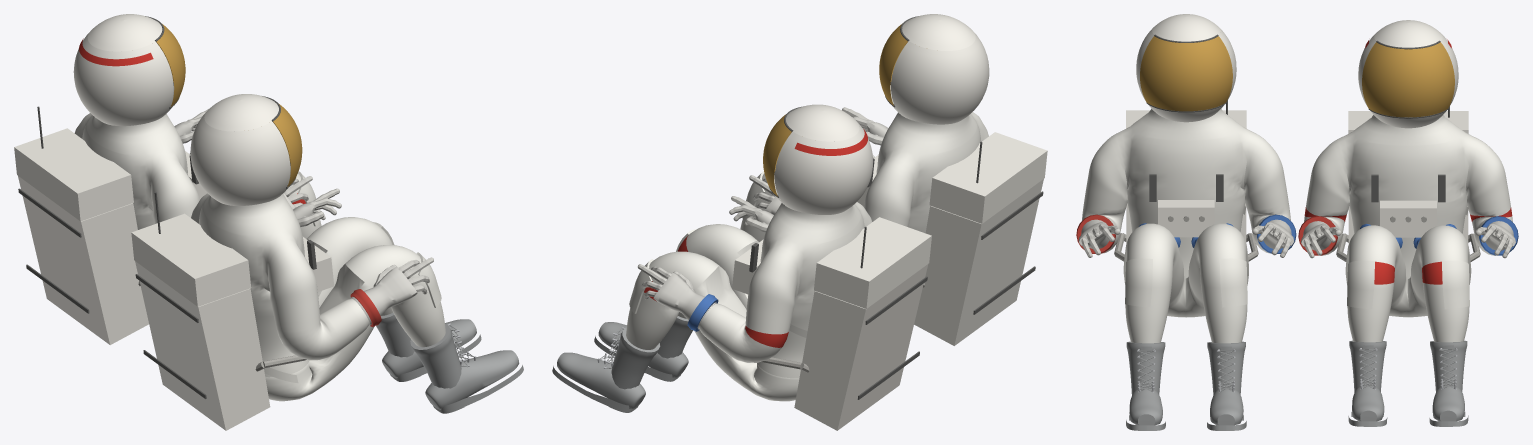
The model's file is riders.lod1.glb.
3 views of the same model, side by side, from view 1: azimuth 30°, elevation 25°; view 2: azimuth 150°, elevation 25°; view 3: azimuth 270°, elevation 25° (orthographic). The views are drawn at different scales.
Parts seen in each view (by area): view 1: Duke_Helmet_OuterThermalCover, Young_Helmet_OuterThermalCover, Duke_Arms_Sleeves, Young_Legs_Stowage, Duke_Boots_Laces, Duke_Gloves_PressureGloves, Duke_Helmet_VisorRim, Duke_Helmet_GoldSunVisor, Young_Helmet_GoldSunVisor, Young_Helmet_VisorRim, Young_Gloves_PressureGloves, Young_Helmet_CommanderBand; view 2: Young_Helmet_OuterThermalCover, Duke_Helmet_OuterThermalCover, Young_Legs_Stowage, Young_Legs_Trousers, Duke_Arms_Sleeves, Young_Boots_Laces, Young_Arms_Sleeves, Young_Gloves_PressureGloves, Duke_Gloves_PressureGloves, Young_Helmet_VisorRim, Duke_Helmet_GoldSunVisor, Young_Helmet_GoldSunVisor (+2 smaller); view 3: Duke_Arms_Sleeves, Young_Legs_Stowage, Young_Legs_Trousers, Young_Helmet_GoldSunVisor, Duke_Helmet_GoldSunVisor, Duke_Boots_Laces, Young_Helmet_OuterThermalCover, Young_Boots_Laces, Duke_Helmet_OuterThermalCover, Duke_Gloves_PressureGloves, Young_Gloves_PressureGloves, Young_Arms_Sleeves (+7 smaller).
Part boxes in pixels (x1,y1,x2,y2): Duke_Helmet_OuterThermalCover: [131, 94, 334, 430]; Young_Helmet_OuterThermalCover: [14, 14, 207, 344]; Duke_Arms_Sleeves: [191, 193, 445, 401]; Young_Legs_Stowage: [74, 113, 320, 229]; Duke_Boots_Laces: [376, 313, 523, 413]; Duke_Gloves_PressureGloves: [293, 188, 433, 325]; Duke_Helmet_VisorRim: [135, 96, 316, 398]; Duke_Helmet_GoldSunVisor: [273, 104, 302, 186]; Young_Helmet_GoldSunVisor: [156, 24, 185, 107]; Young_Helmet_VisorRim: [18, 16, 198, 313]; Young_Gloves_PressureGloves: [174, 109, 312, 209]; Young_Helmet_CommanderBand: [79, 38, 153, 66]; Young_Helmet_OuterThermalCover: [732, 104, 931, 430]; Duke_Helmet_OuterThermalCover: [857, 14, 1047, 345]; Young_Legs_Stowage: [629, 202, 871, 378]; Young_Legs_Trousers: [626, 224, 799, 401]; Duke_Arms_Sleeves: [740, 112, 988, 242]; Young_Boots_Laces: [552, 316, 692, 412]; Young_Arms_Sleeves: [699, 303, 790, 362]; Young_Gloves_PressureGloves: [637, 196, 773, 329]; Duke_Gloves_PressureGloves: [749, 107, 888, 214]; Young_Helmet_VisorRim: [749, 106, 927, 399]; Duke_Helmet_GoldSunVisor: [879, 23, 907, 105]; Young_Helmet_GoldSunVisor: [763, 114, 791, 196]; Duke_Arms_Sleeves: [1082, 108, 1290, 343]; Young_Legs_Stowage: [1307, 114, 1509, 309]; Young_Legs_Trousers: [1345, 225, 1471, 342]; Young_Helmet_GoldSunVisor: [1362, 42, 1454, 117]; Duke_Helmet_GoldSunVisor: [1140, 36, 1232, 111]; Duke_Boots_Laces: [1126, 341, 1246, 430]; Young_Helmet_OuterThermalCover: [1348, 20, 1468, 244]; Young_Boots_Laces: [1348, 340, 1468, 426]; Duke_Helmet_OuterThermalCover: [1126, 14, 1246, 243]; Duke_Gloves_PressureGloves: [1078, 219, 1294, 257]; Young_Gloves_PressureGloves: [1301, 221, 1515, 258]; Young_Arms_Sleeves: [1304, 198, 1512, 255].
Size of the model in its own units: 1.17 by 1.13 by 1.42.
